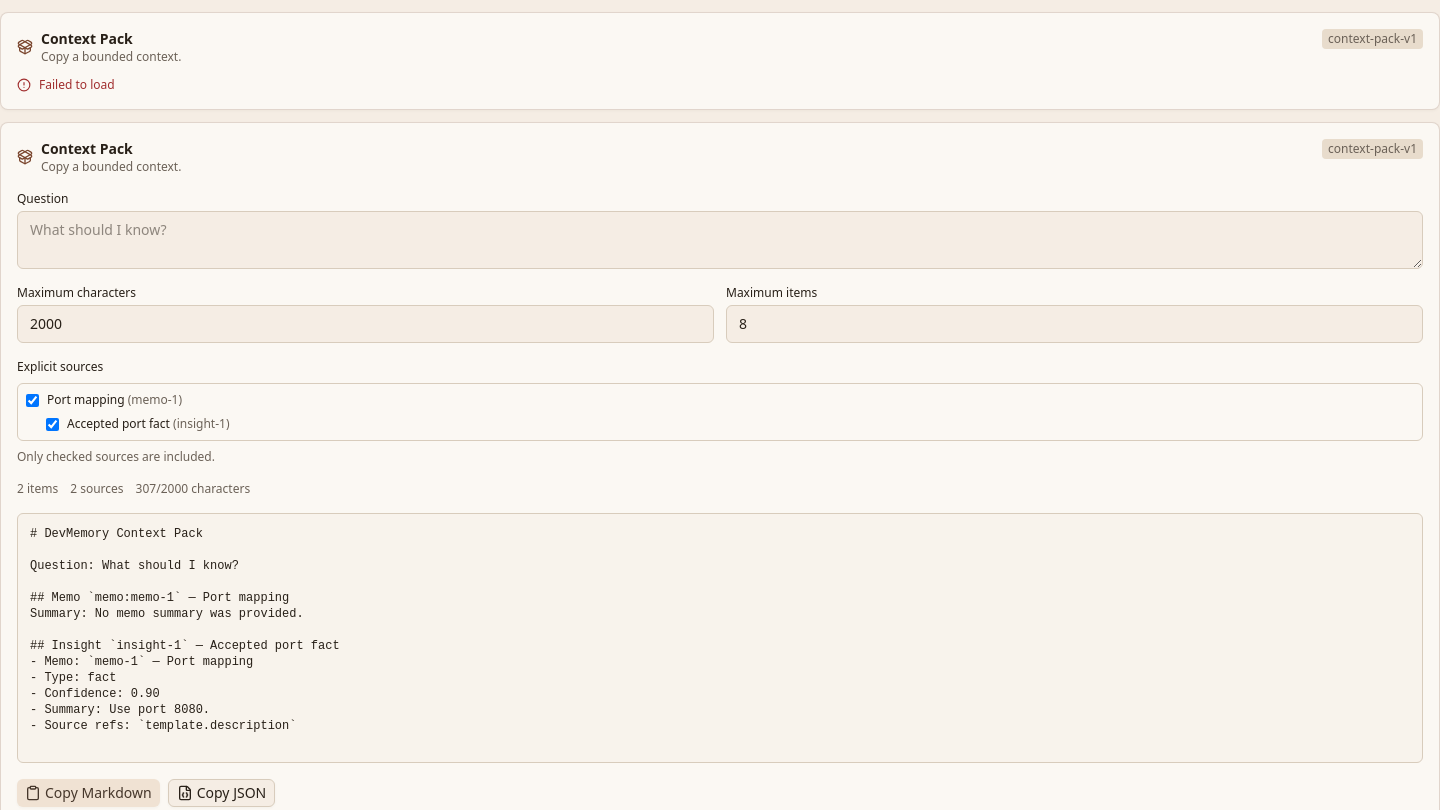
Test: AI Memo Context Pack › shows failure and manual clipboard guidance without exposing content
Check: the element with test id "ai-context-pack-error" is shown, box [17,77,1423,93]
Click the button "Copy Markdown" at (88, 793), box [17,779,160,807]
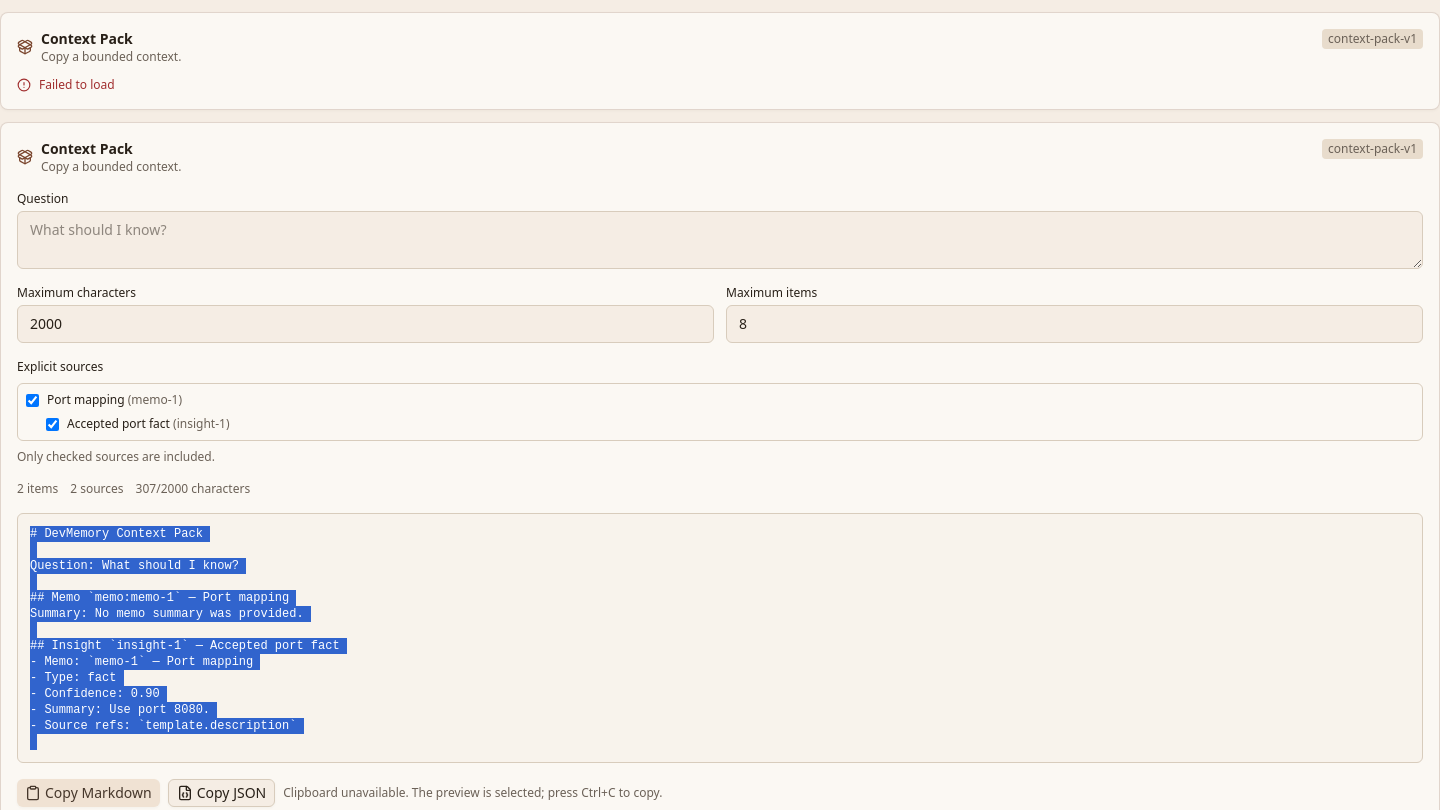
Check: the text with test id "ai-context-pack-copy-manual" is shown, box [283,785,662,801]
